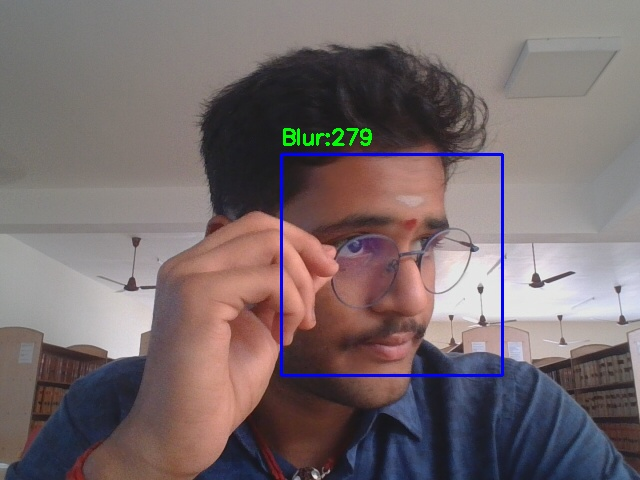real: (281, 154, 502, 375)
